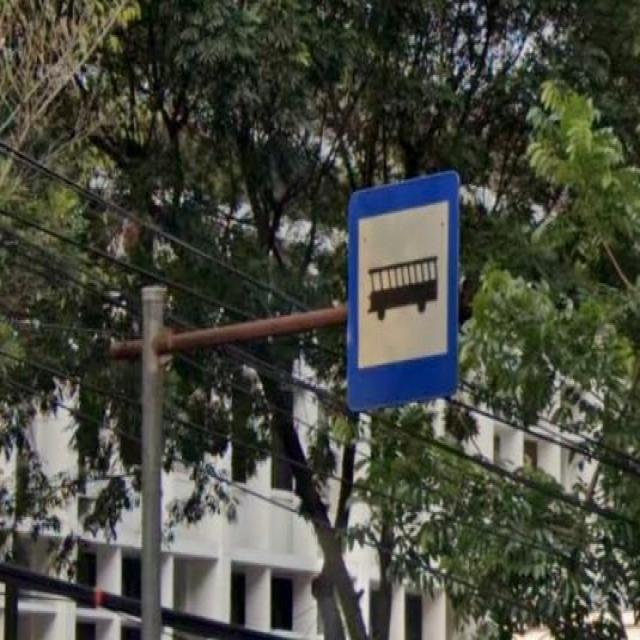traffic sign: (346, 173, 459, 407)
